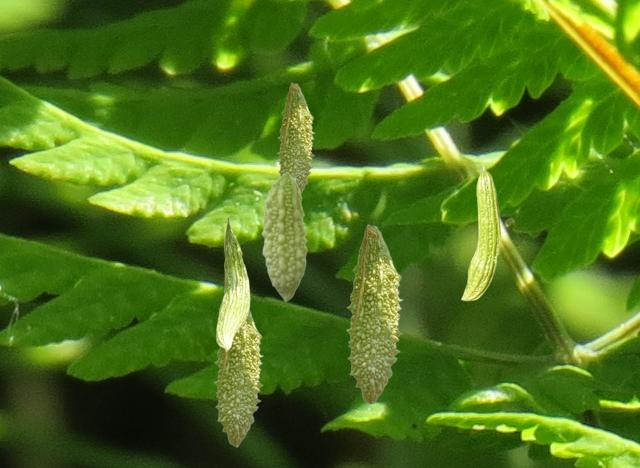ampalaya: (345, 224, 403, 405), (213, 309, 264, 447), (261, 172, 307, 302), (460, 164, 501, 301), (215, 215, 250, 352), (276, 82, 315, 193)
